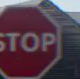Stop: (0, 4, 65, 75)
